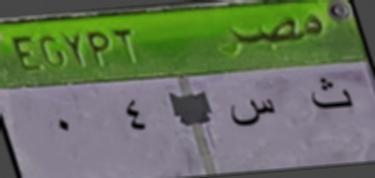0: (52, 114, 78, 136)
4: (117, 94, 156, 141)
seen: (228, 92, 282, 129)
thaa: (305, 72, 355, 114)
